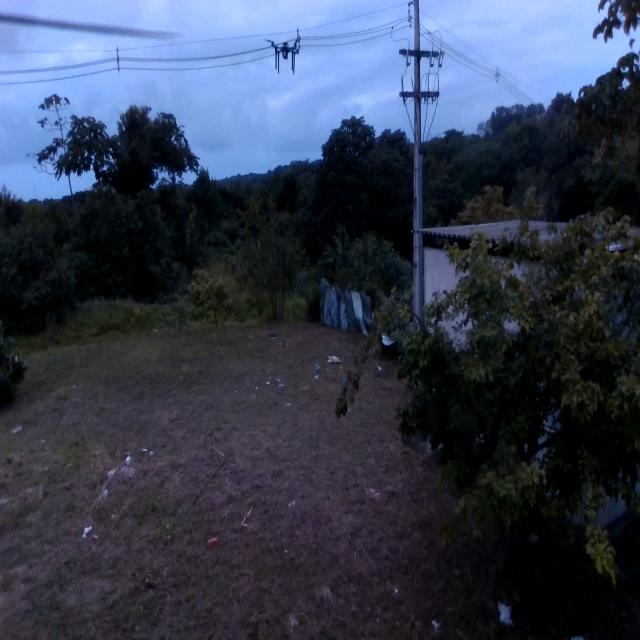-uav-: (259, 21, 307, 83)
